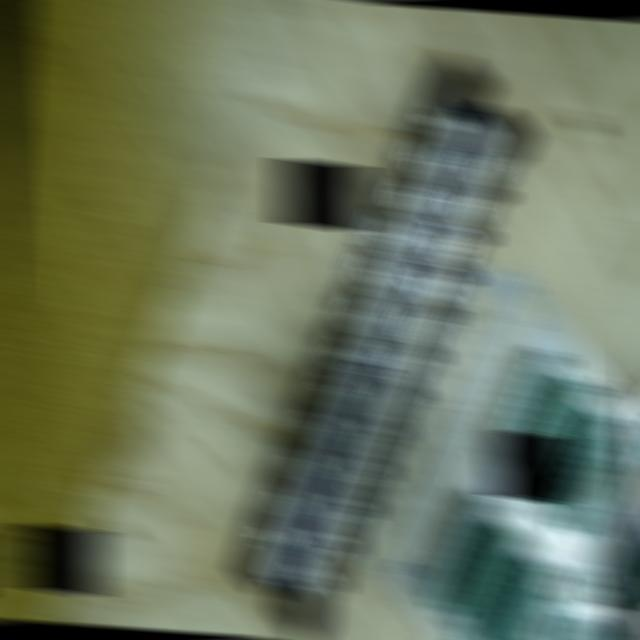Phillips_Block: (221, 52, 547, 640)
Terminal_2: (426, 502, 513, 621), (547, 422, 635, 539), (521, 388, 608, 506), (456, 536, 542, 640)
